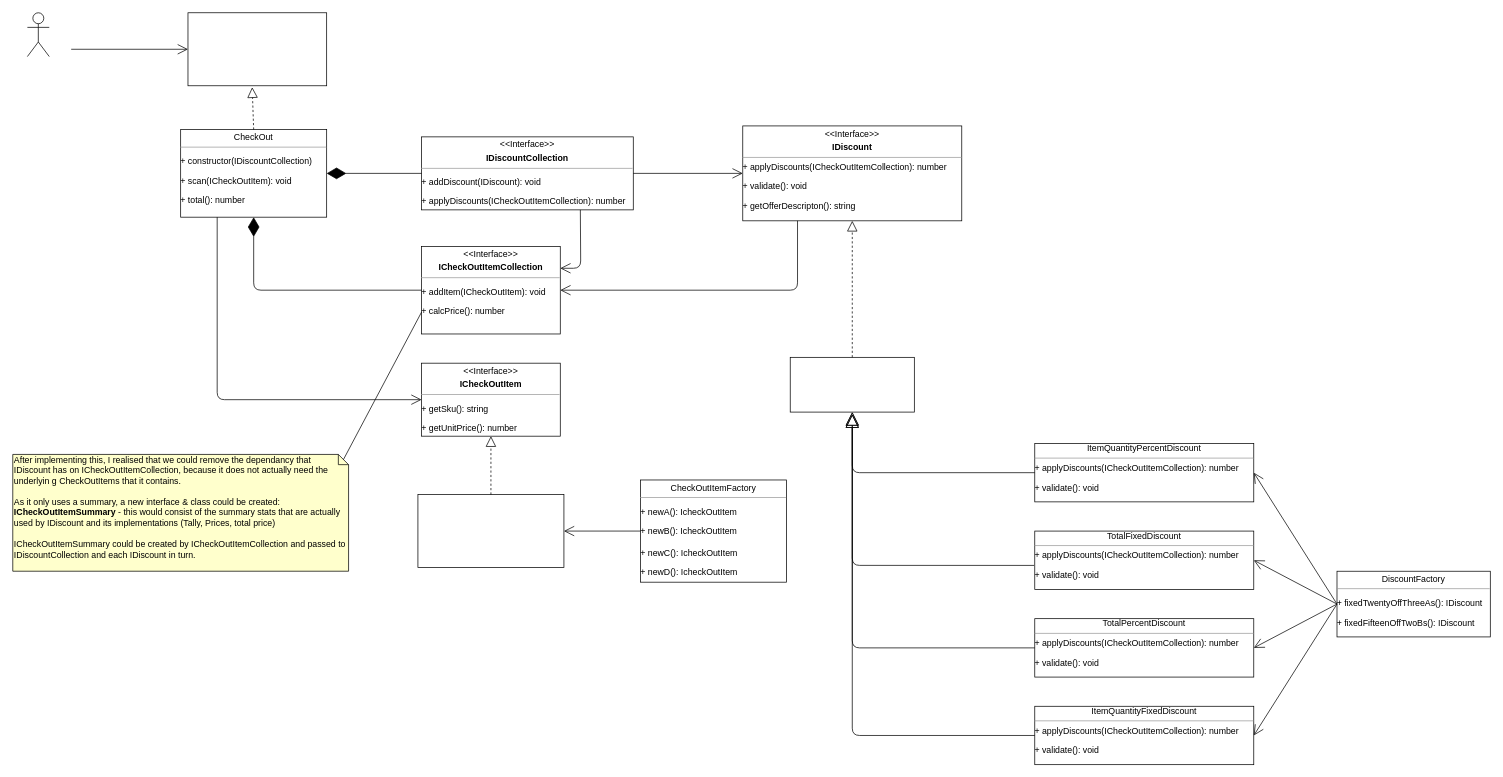
Image size: 1503x777. Some labels were removed from this diagram. Each missing label, with the box of its shape:
<<Interface>> ICheckOut + scan( ICheckOutItem ): void + total(): number: (187, 12, 327, 86)
API User: (27, 12, 49, 57)
CheckOutItem + getSku(): string + getUnitPrice(): number: (417, 494, 564, 568)
Discount + getOfferDescripton (): string: (789, 357, 914, 412)
